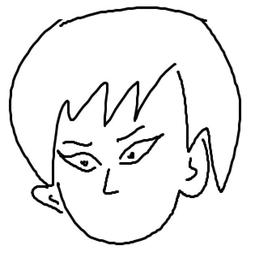ear: (29, 183, 67, 218)
eye: (113, 130, 166, 170), (58, 148, 103, 174)
eyebrow: (59, 134, 94, 150)
frowning_eyebrow: (116, 121, 149, 141)
large_ear: (180, 131, 213, 205)
pointy_nose: (99, 167, 120, 196)
